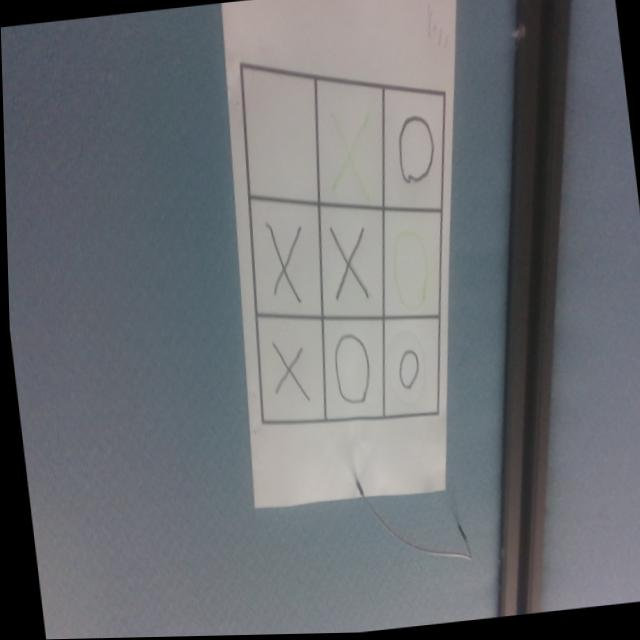null: (234, 59, 325, 210)
o: (385, 226, 435, 318), (327, 334, 371, 411), (393, 116, 438, 188), (392, 347, 420, 392)
table: (219, 34, 478, 441)
x: (319, 108, 381, 202), (265, 224, 306, 304), (327, 228, 369, 301), (267, 340, 307, 407)
